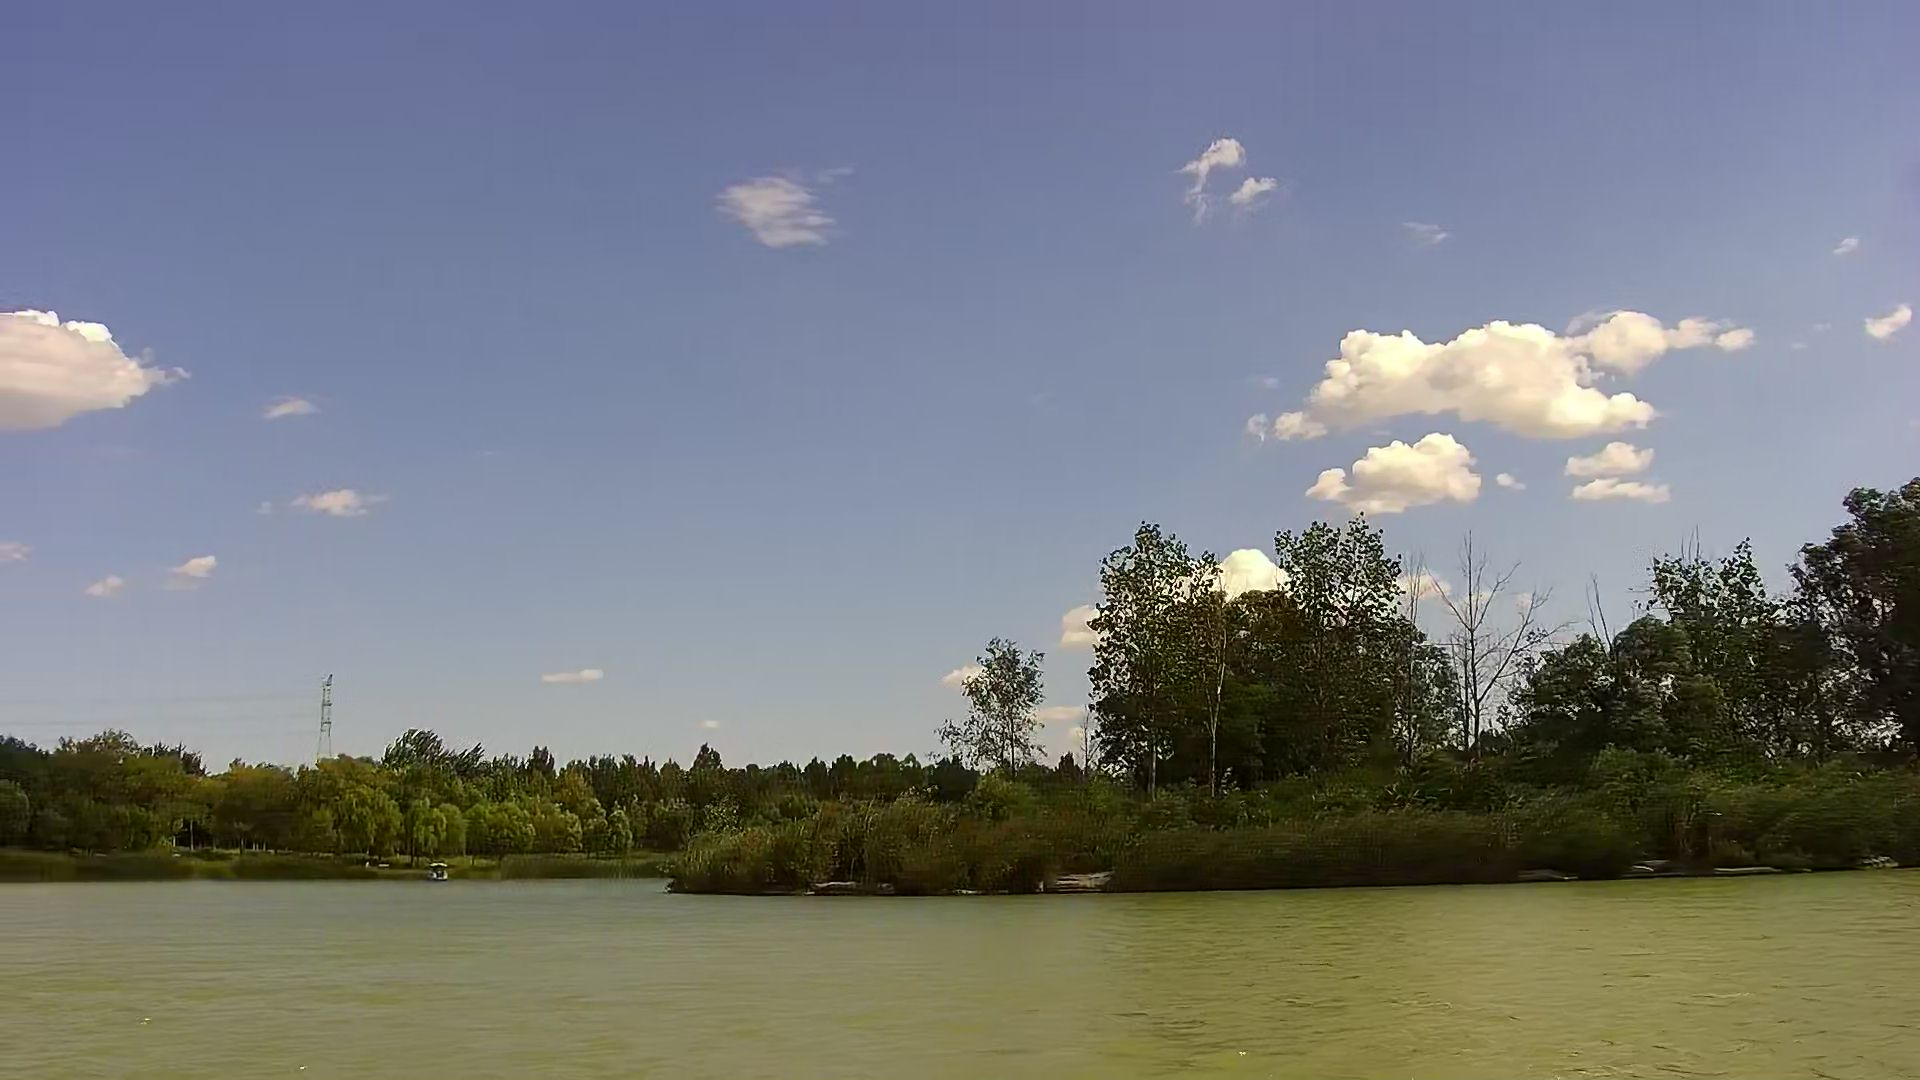boat: (425, 861, 446, 876)
rock: (1040, 865, 1117, 890), (810, 876, 884, 897), (1716, 856, 1778, 878), (1627, 855, 1660, 876), (1862, 851, 1894, 872)
